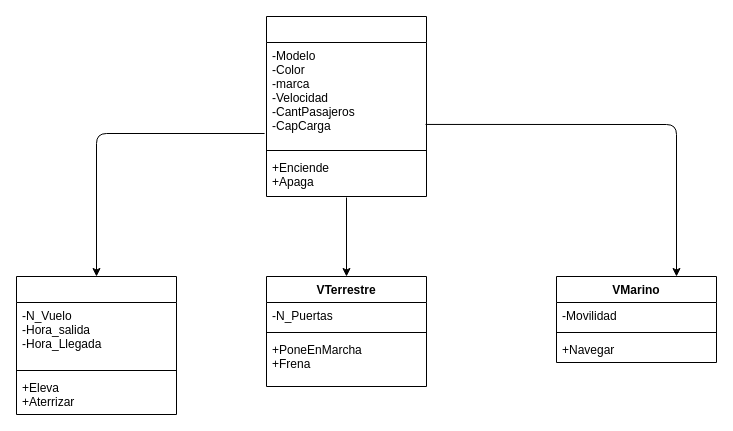
The diagram is 733 pixels wide and 431 high, and some of its shapes have lost their labels. Each missing label, with the box of its shape:
VAereo: (16, 276, 176, 414)
vehiculo: (266, 16, 426, 196)
